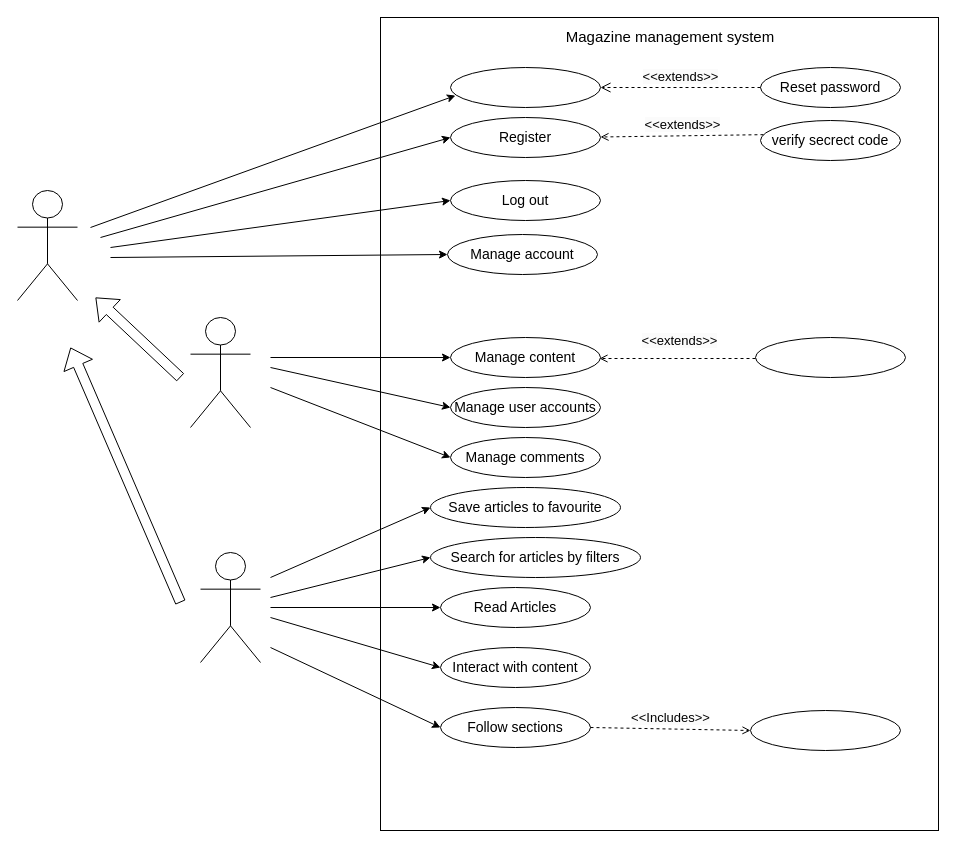
Some shapes in this 956 by 848 pixel diagram are drawn without their labels. The shapes that lost their labels are listed below. From the top down, each one's centre as x and y in pixels, then its label:
At [525,87]: "Log in".
At [47,245]: "User".
At [220,372]: "Admin".
At [830,357]: "Send notifications".
At [230,607]: "Reader".
At [825,730]: "Recive Notifications".
